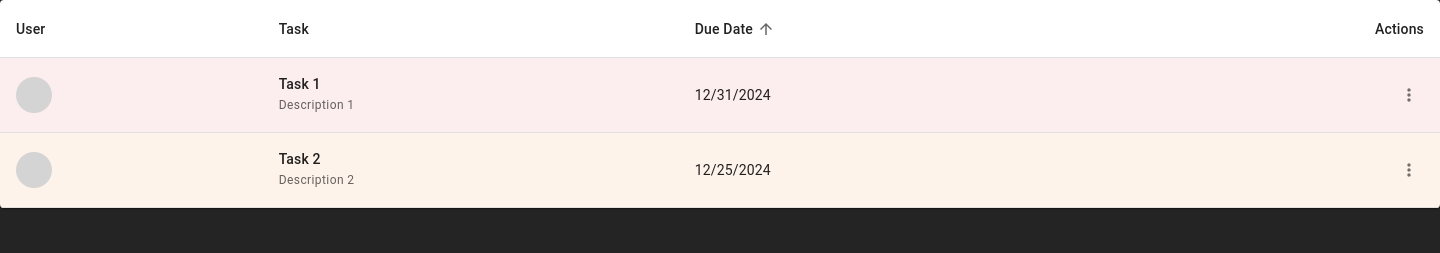
Test case: TasksTableCompact › opens menu when clicking actions button
Step 1. Click the button named "task actions" in the row of "Task 1" → (1409, 95), box [1394,80,1424,110]
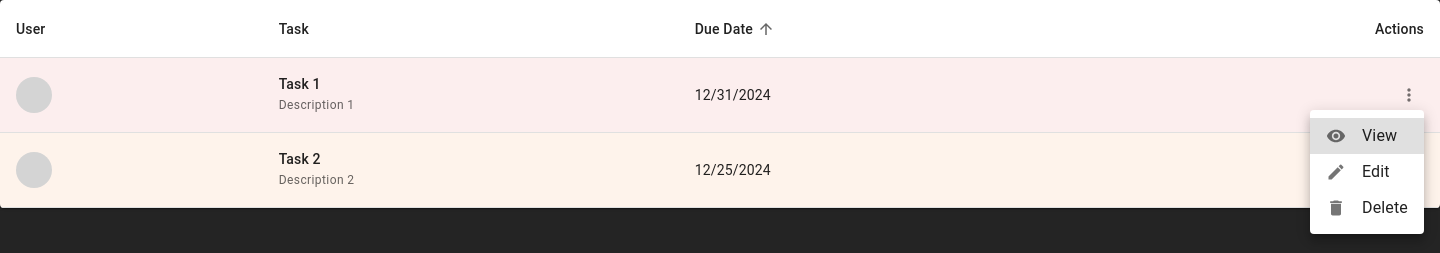
Expected: the menu is shown, [1310,110,1424,234]
Expected: the text "View" is shown, [1362,126,1397,145]
Expected: the text "Edit" is shown, [1362,162,1390,181]
